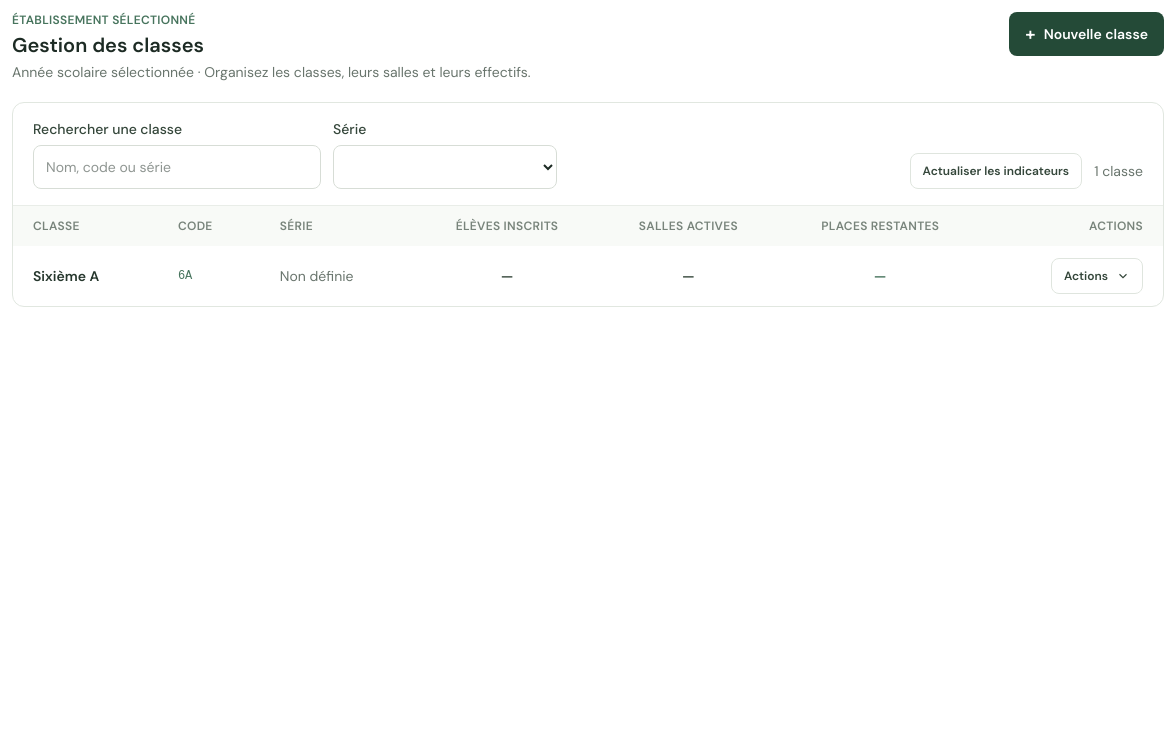
SchoolClassManagerComponent › conserve uniquement Actions dans la ligne et ouvre les élèves depuis le menu
Click the button "Actions" at (1097, 276), box [1051,258,1143,294]
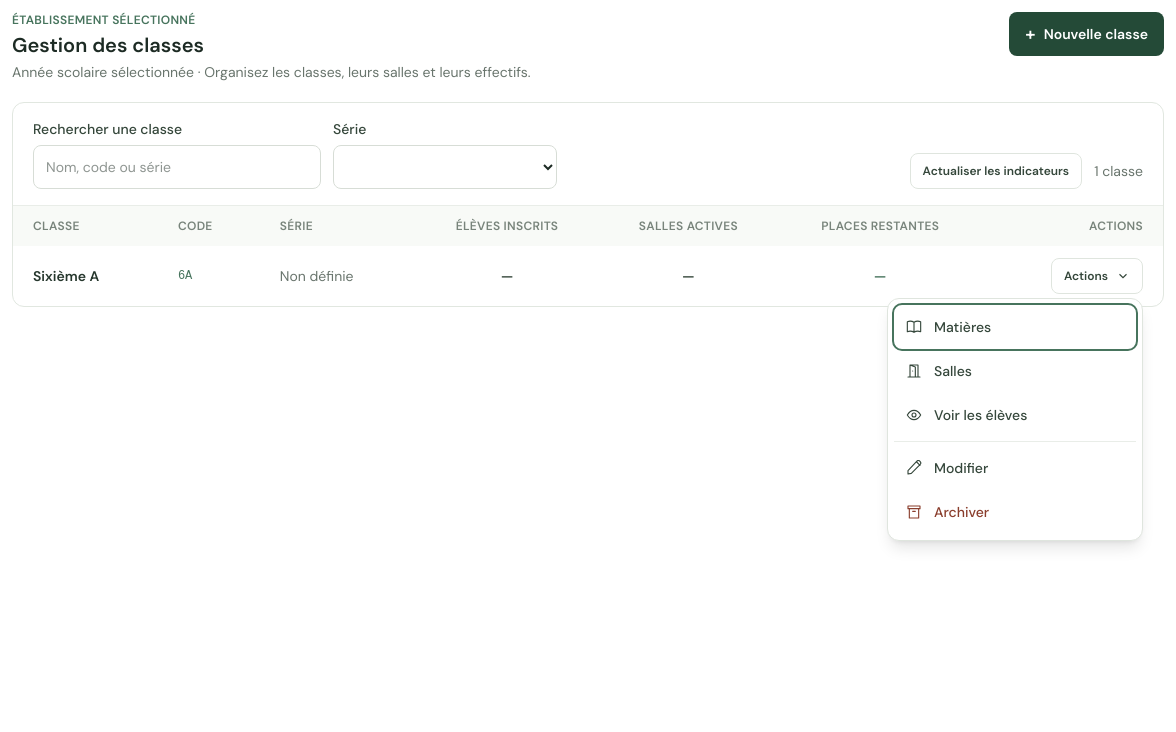
Click the menu item "Voir les élèves" at (1015, 414), box [894,392,1136,436]
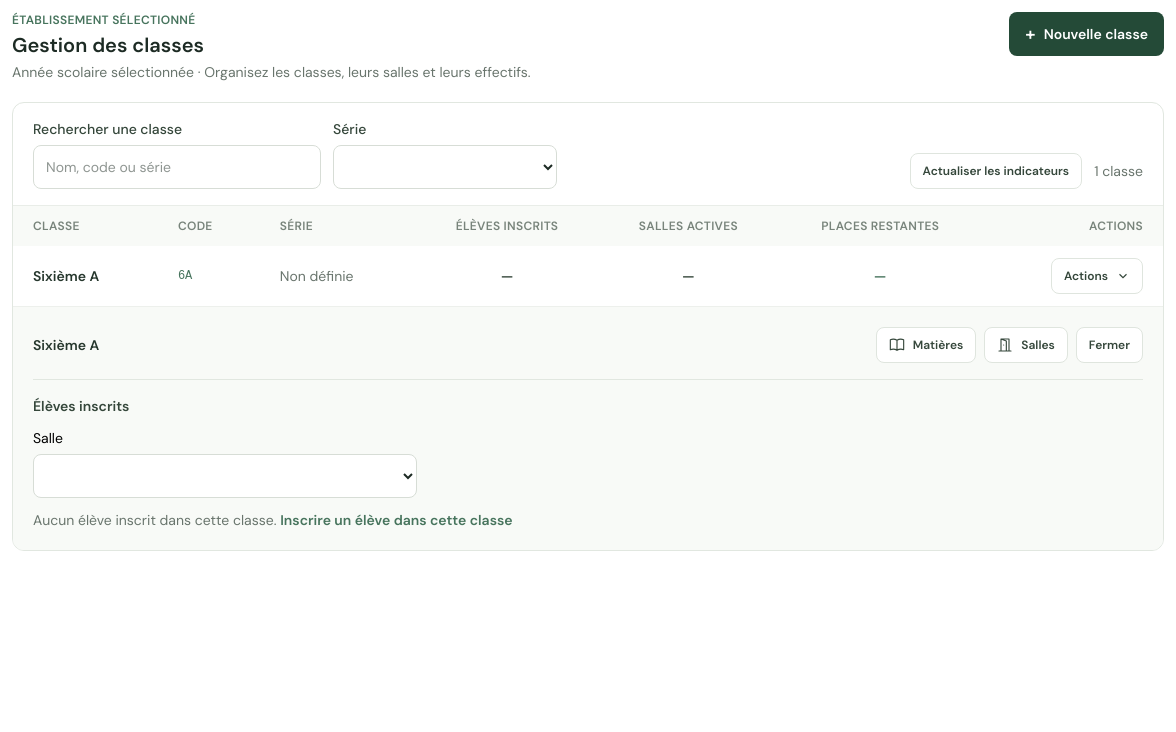
Expected: the element that starts with "Élèves inscrits" is shown, [33,396,513,528]
Click the button "Actions" at (1097, 276), box [1051,258,1143,294]
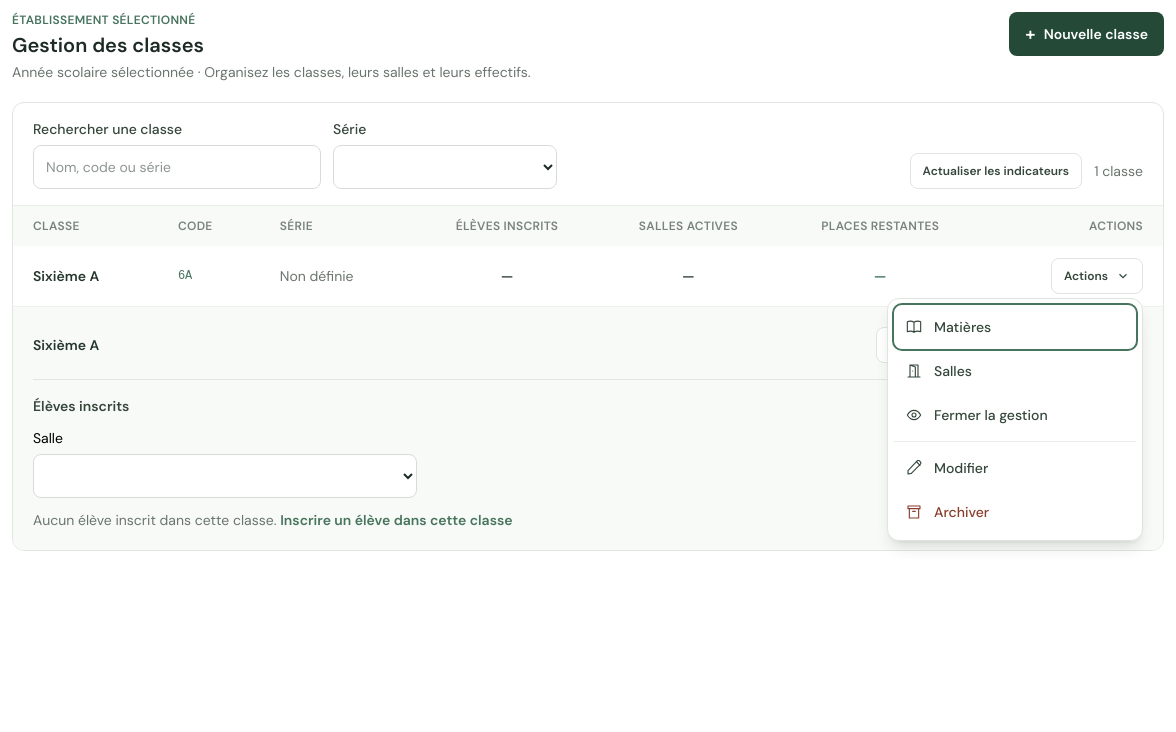
Click the menu item "Fermer la gestion" at (1015, 414), box [894,392,1136,436]
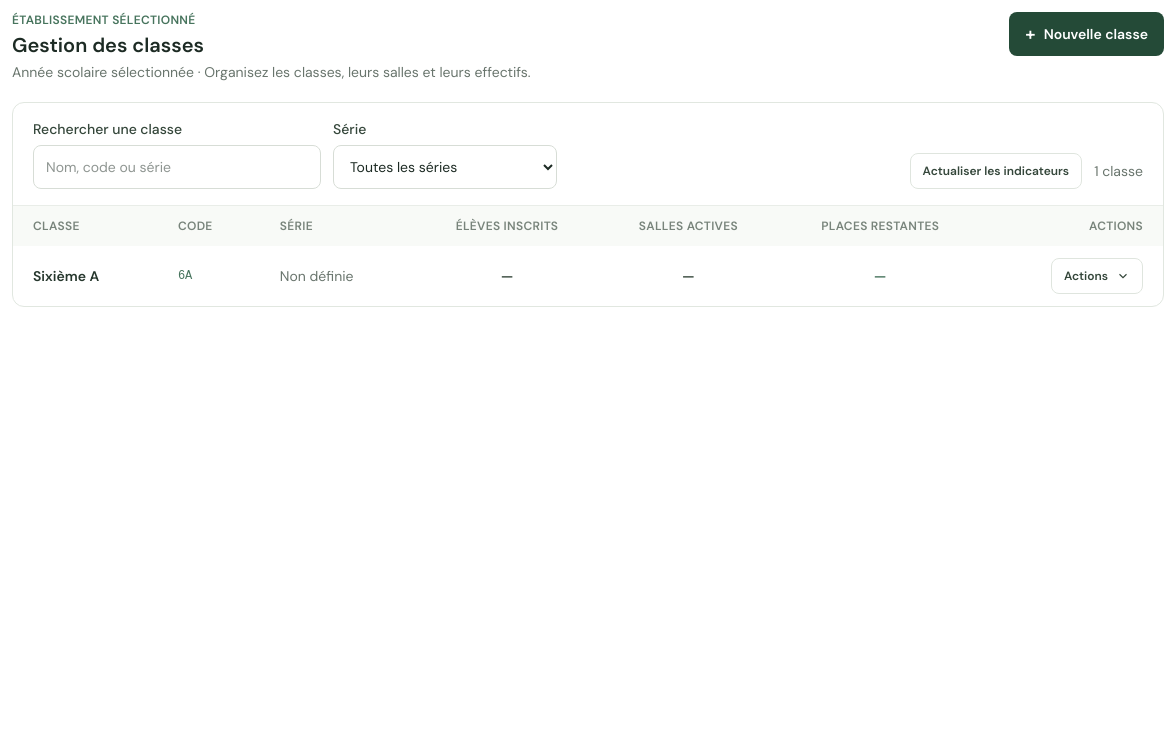
Expected: the menu item with id "class-management-class" is gone
